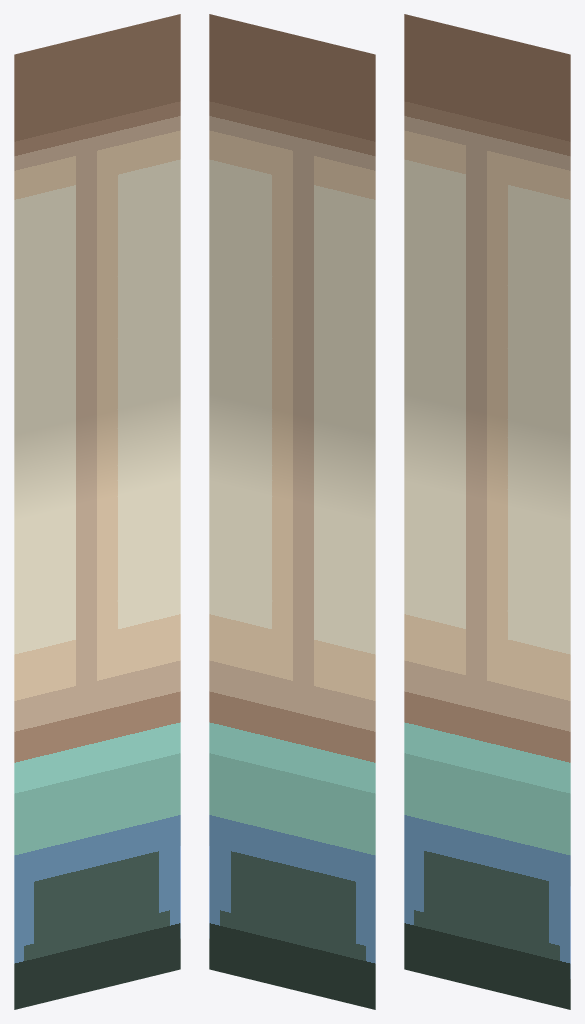
3 renders of one model, left to right at view 1: azimuth 30°, elevation 25°; view 2: azimuth 150°, elevation 25°; view 3: azimuth 330°, elevation 25°, orthographic.
Bounding box in the file's own units: 1 × 5.5 × 0.
1 material, 1 textured.
